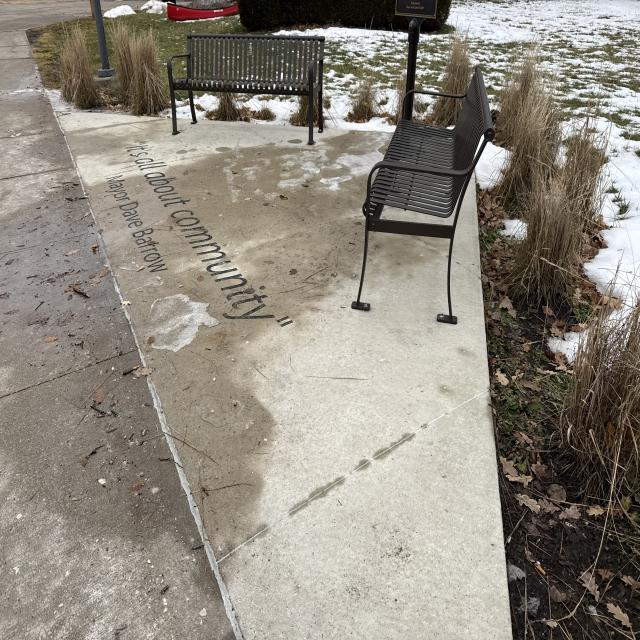Bench: (351, 49, 499, 328), (166, 23, 330, 145)
